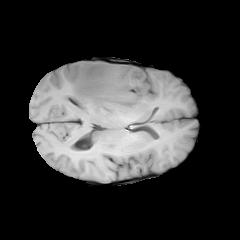glioma: (69, 61, 150, 118)
